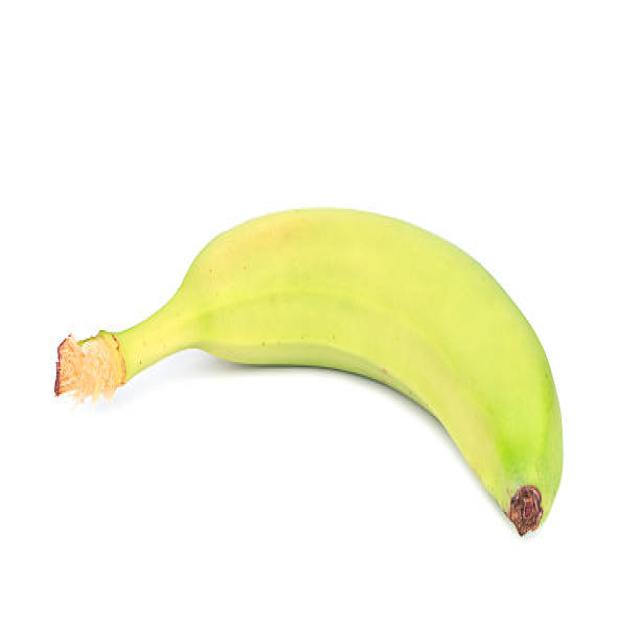banana: (54, 206, 566, 531)
